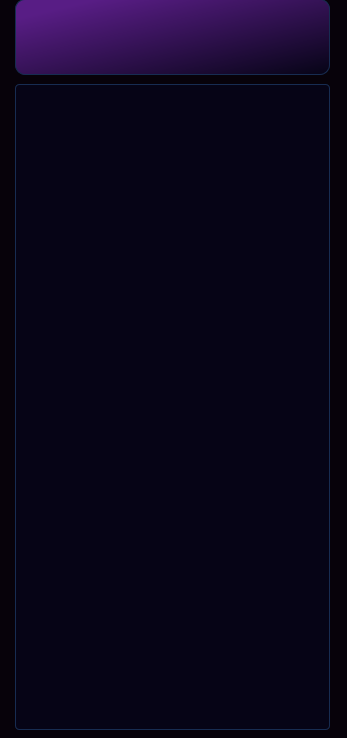

The page's visual inventory and layout, read from the dashboard file:
{"tool":"powerbi","page":{"name":"Drill Down","canvas":[320,720],"ordinal":2},"visuals":[{"type":"barChart","title":"Specialty Group Break Up (Total Wait lList)","fields":{"Category":["Mapping_Specialty.Specialty Group"],"Y":["Sum(All_Data.Total)"]},"box":[8,80,304,624],"z":0},{"type":"card","fields":{"Values":["Sum(All_Data.Total)"]},"box":[0,0,320,64],"z":1000}]}

Visuals, with their boxes in screenshot pixels (x1, y1, x2, y2):
"Specialty Group Break Up (Total Wait lList)" barChart: pyautogui.locateOnScreen(12, 72, 331, 726)
card - Sum(All_Data.Total): pyautogui.locateOnScreen(4, 0, 339, 56)
